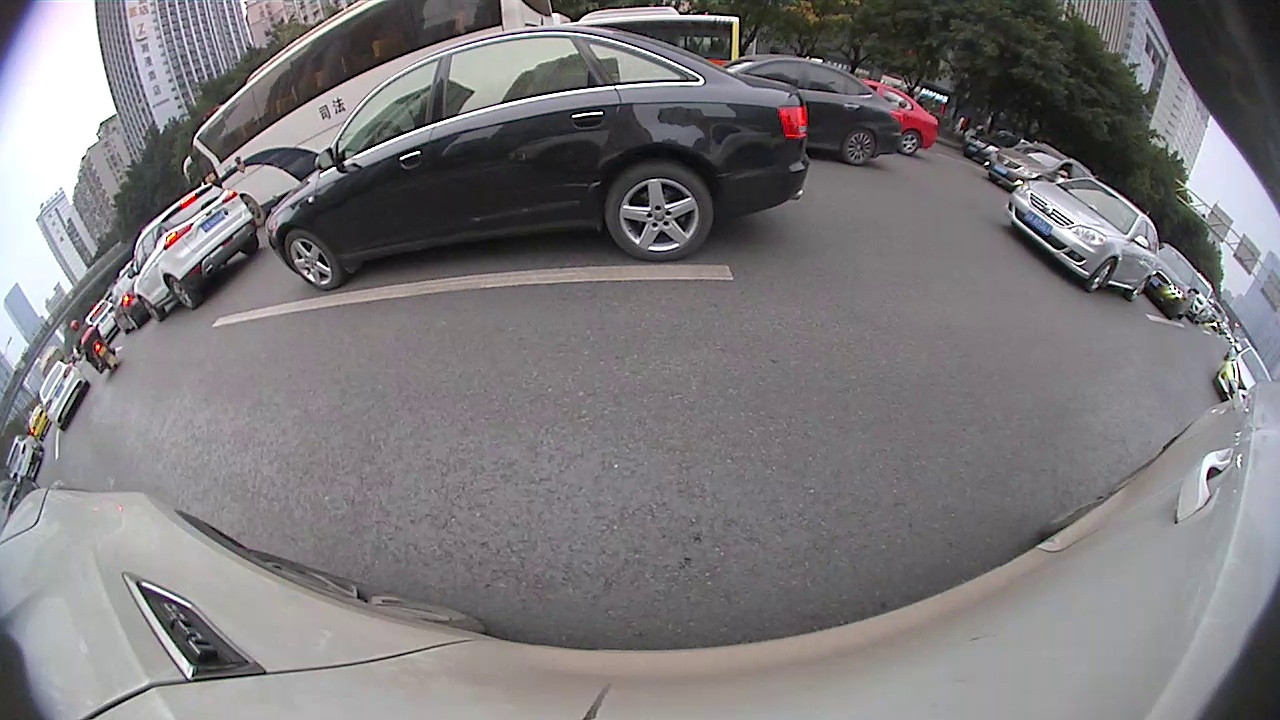bus: (183, 3, 554, 231), (554, 9, 743, 62)
car: (268, 19, 811, 291), (723, 52, 908, 167), (1010, 170, 1162, 302), (131, 179, 263, 319), (859, 76, 942, 159), (980, 143, 1095, 190), (1151, 240, 1198, 332), (35, 359, 89, 430), (1215, 342, 1274, 403), (965, 127, 1030, 173), (104, 281, 159, 335), (3, 431, 42, 479)
front: (284, 227, 342, 287), (1084, 259, 1116, 292), (139, 293, 165, 321)
rear: (607, 161, 715, 259), (843, 128, 876, 164), (167, 278, 201, 307), (898, 129, 920, 155), (1127, 277, 1150, 300)
rider: (65, 316, 118, 377)
